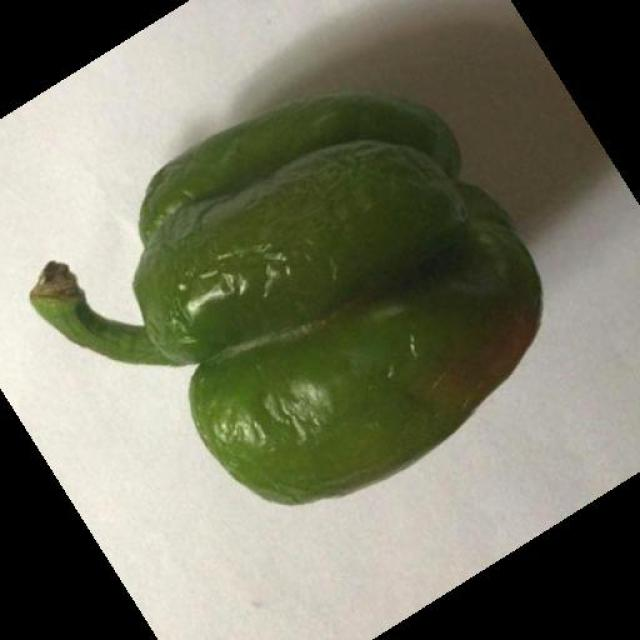Stale_Capsicum: (72, 144, 546, 459)
